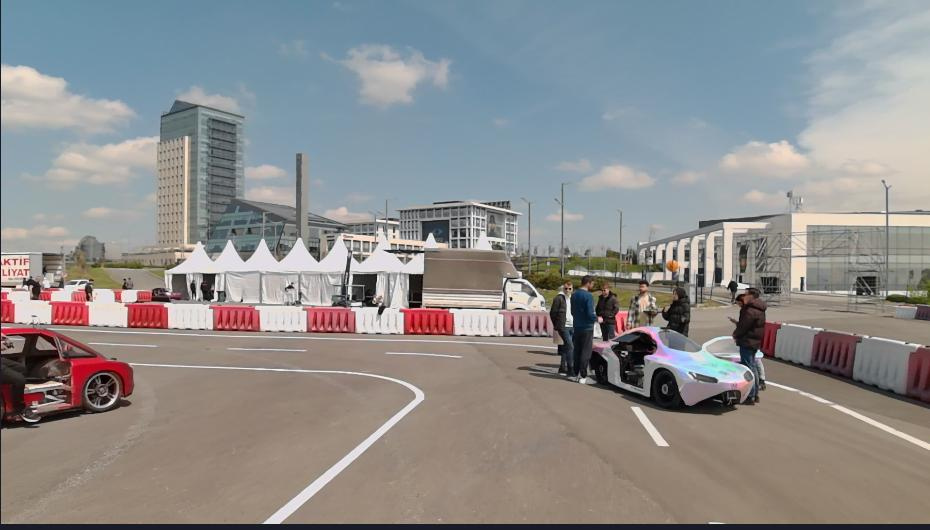nesne: (52, 328, 930, 525), (52, 326, 731, 529), (134, 362, 425, 522), (628, 378, 930, 524), (0, 299, 555, 335), (0, 328, 137, 436), (761, 321, 930, 404), (592, 326, 754, 409), (768, 381, 929, 451), (51, 326, 554, 347), (420, 246, 546, 308), (724, 286, 768, 401), (852, 335, 916, 397), (569, 272, 604, 385), (808, 328, 860, 380), (549, 279, 576, 379), (327, 246, 367, 308), (0, 253, 64, 288), (774, 322, 818, 368), (624, 278, 659, 330), (629, 403, 666, 445), (904, 344, 929, 405), (256, 305, 308, 333), (660, 284, 689, 334), (502, 308, 555, 335), (400, 307, 452, 334), (701, 334, 744, 366), (451, 309, 502, 335), (596, 280, 619, 337), (352, 308, 404, 333), (165, 304, 213, 329), (306, 307, 353, 331), (212, 305, 257, 329), (124, 303, 166, 328), (87, 303, 126, 327), (14, 299, 50, 324), (49, 302, 88, 325), (888, 303, 930, 321), (86, 339, 160, 349), (761, 320, 780, 358), (226, 345, 307, 353), (384, 349, 462, 357), (891, 304, 918, 321), (25, 273, 42, 299), (153, 285, 181, 300), (725, 277, 738, 303), (283, 280, 297, 304), (196, 276, 209, 300), (94, 288, 113, 302), (85, 276, 95, 302), (1, 301, 14, 321), (65, 277, 87, 288), (188, 277, 198, 301), (51, 290, 71, 301), (120, 275, 135, 288), (122, 289, 136, 302), (71, 291, 86, 302), (136, 290, 152, 300), (918, 306, 929, 320), (8, 291, 26, 299), (112, 289, 122, 302), (41, 290, 52, 299), (0, 291, 7, 300)
